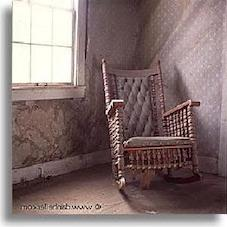chair: (92, 47, 205, 191)
